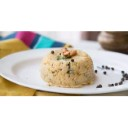venpongal: (40, 46, 95, 87)
